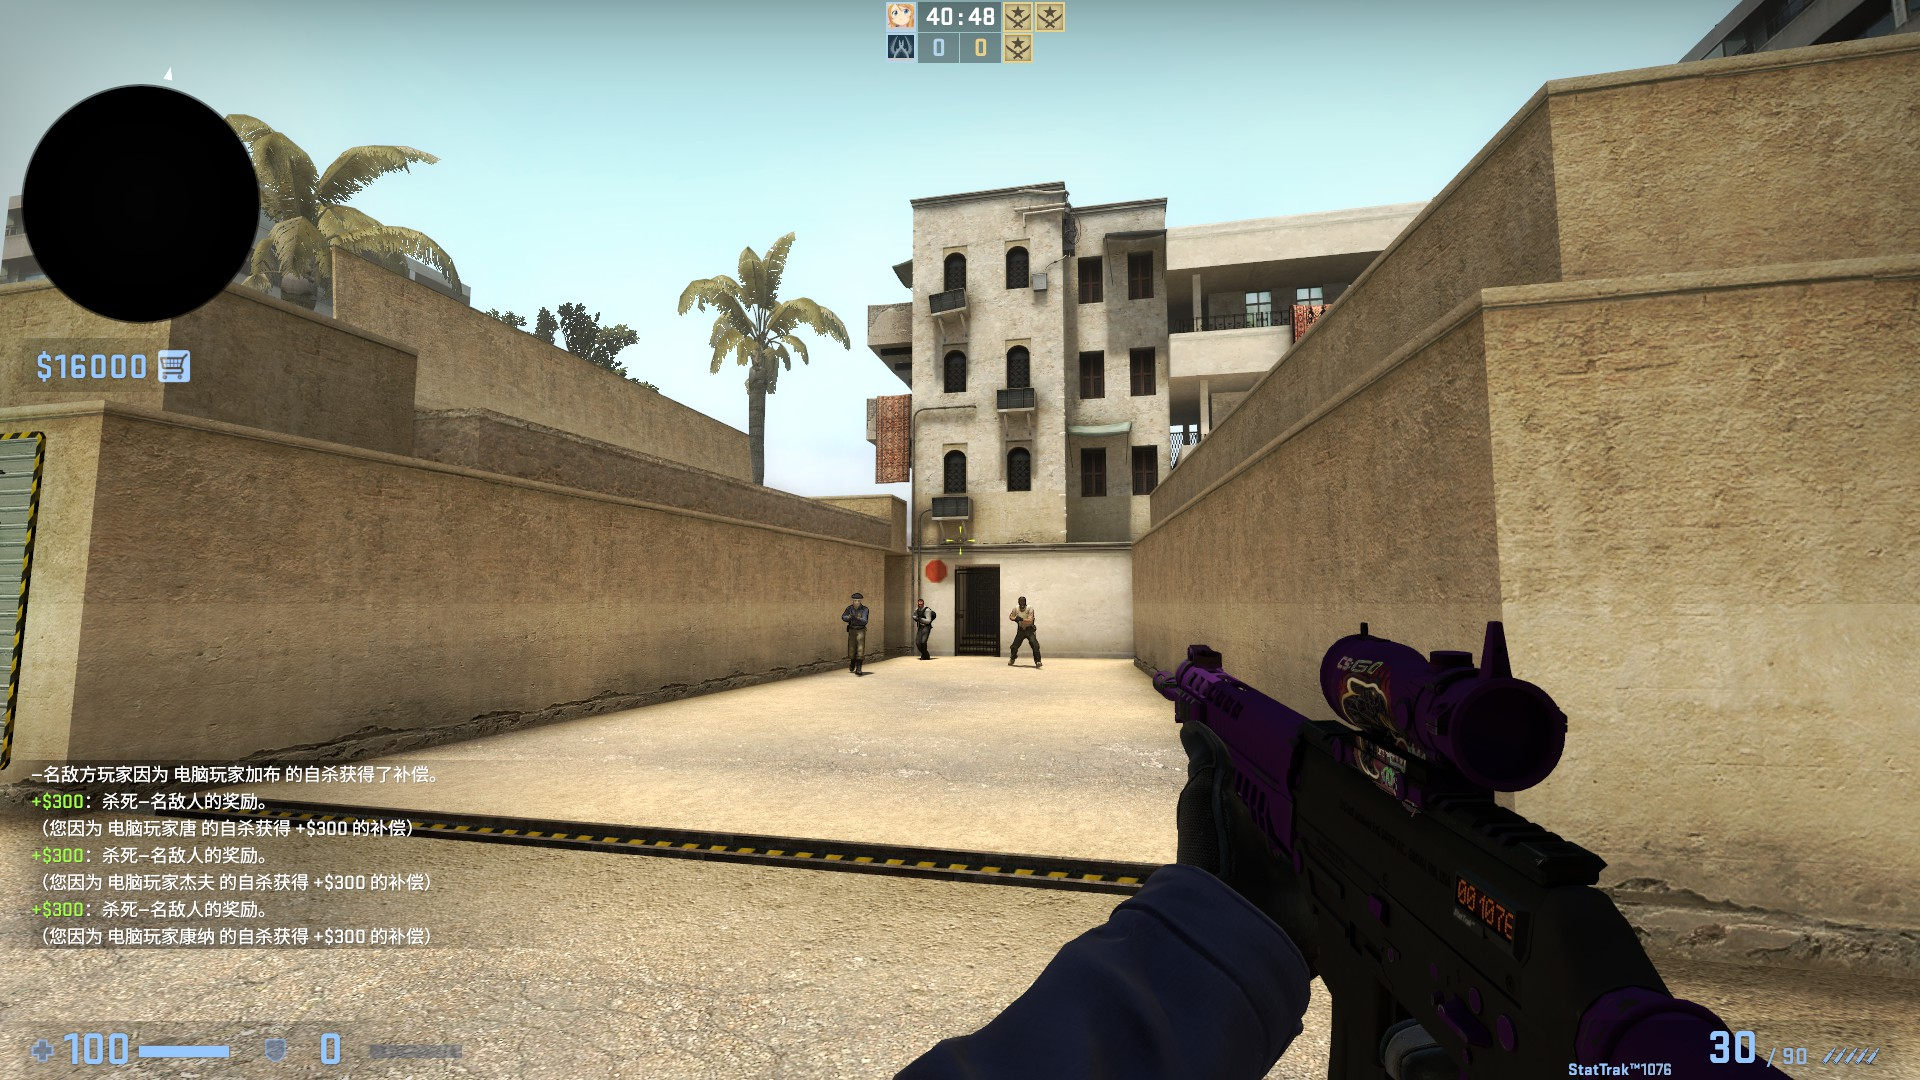head: (848, 591, 863, 607), (1015, 595, 1027, 610), (915, 597, 924, 609)
